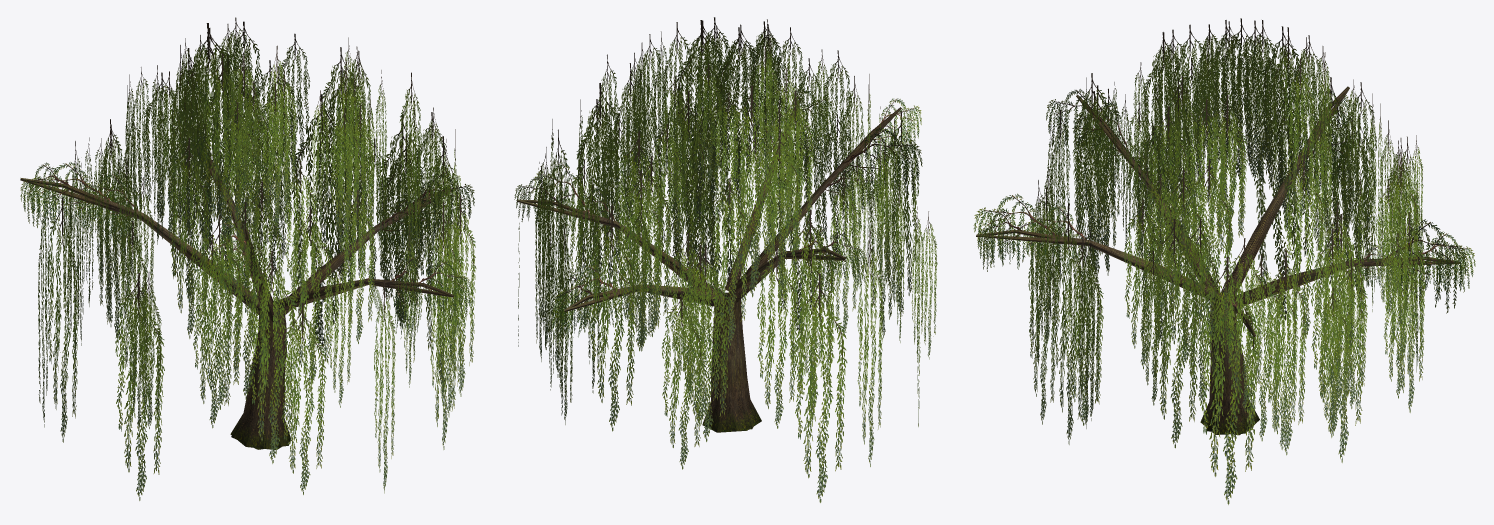
The model's file is far.glb.
3 views of the same model, side by side, from view 1: azimuth 30°, elevation 25°; view 2: azimuth 150°, elevation 25°; view 3: azimuth 270°, elevation 25° (orthographic). The views are drawn at different scales.
Parts seen in each view (by area): view 1: lod1, lod2; view 2: lod1, lod2; view 3: lod1, lod2.
Part boxes in pixels (x1,y1,x2,y2): lod1: (20,17,476,494); lod2: (20,23,474,500); lod1: (514,17,937,469); lod2: (517,20,922,502); lod1: (977,18,1475,449); lod2: (973,20,1466,504).
Bounding box in the file's own units: 86.67 × 81.36 × 97.32.
Materials: 3 (3 with a texture image).
